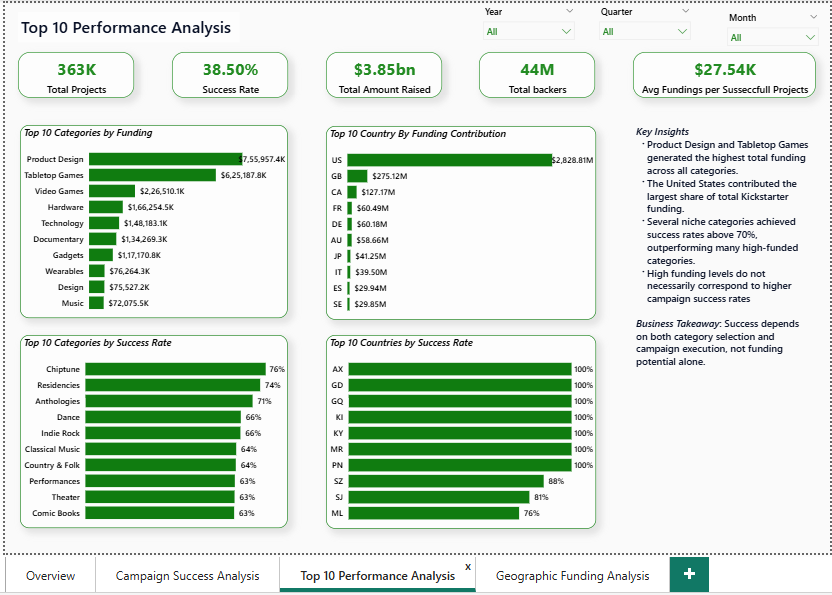

What the dashboard file says about the page in this screenshot:
{"tool":"powerbi","page":{"name":"Top 10 Performance Analysis","canvas":[1350,900],"ordinal":2},"visuals":[{"type":"card","title":"Total Backers ","fields":{"Values":["Measures Table.Total backers"]},"box":[776,79.6,190,75],"z":0},{"type":"card","title":"Total Amount Raised","fields":{"Values":["Measures Table.Total Amount Raised"]},"box":[524.5,80.2,190,75],"z":1000},{"type":"card","title":"Avg Fundings per Susseccfull Projects","fields":{"Values":["Measures Table.Avg Fundings per Susseccfull Projects"]},"box":[1027.6,80.2,299.5,75.3],"z":2000},{"type":"barChart","title":"Top 10 Country By Funding Contribution","fields":{"Category":["Location.country"],"Y":["Measures Table.Total Amount Raised"]},"box":[525,201.7,441.7,316.7],"z":3000},{"type":"slicer","fields":{"Values":["Projects.created_at_new.Variation.Date Hierarchy.Year"]},"box":[777.3,3.3,160,75],"z":4000},{"type":"slicer","fields":{"Values":["Projects.created_at_new.Variation.Date Hierarchy.Quarter"]},"box":[967.1,3.3,160,75],"z":5000},{"type":"card","title":"Total Projects","fields":{"Values":["Measures Table.Total Projects"]},"box":[21.3,80.2,190,75.3],"z":6000},{"type":"card","title":"Success Rate","fields":{"Values":["Measures Table.Success Rate"]},"box":[272.9,80.5,190,75],"z":7000},{"type":"barChart","title":"Top 10 Countries by Success Rate","fields":{"Y":["Measures Table.Success Rate"],"Category":["Location.country"]},"box":[525,543.3,441.7,316.7],"z":8000},{"type":"barChart","title":"Top 10 Categories by Funding","fields":{"Category":["Category.name"],"Y":["Measures Table.Total Amount Raised"]},"box":[25,200,438,316],"z":9000},{"type":"barChart","title":"Top 10 Categories by Success Rate","fields":{"Category":["Category.name"],"Y":["Measures Table.Success Rate"]},"box":[25,543.3,438,316],"z":10000},{"type":"textbox","box":[21.7,15,363.3,50],"z":11000},{"type":"slicer","title":"Month","fields":{"Values":["Projects.created_at_new.Variation.Date Hierarchy.Month"]},"box":[1176.7,13.3,160,75],"z":12000},{"type":"textbox","box":[1027.6,194.7,299.5,672.5],"z":13000}]}

Visuals, with their boxes on the page's 1350x900 design canvas (x1, y1, x2, y2). These are canvas units, not pixel positions in the 832x595 screenshot, which may show the page scaled, cropped or inside an application window:
"Total Backers " card: {"left": 776, "top": 80, "right": 966, "bottom": 155}
"Total Amount Raised" card: {"left": 524, "top": 80, "right": 714, "bottom": 155}
"Avg Fundings per Susseccfull Projects" card: {"left": 1028, "top": 80, "right": 1327, "bottom": 156}
"Top 10 Country By Funding Contribution" barChart: {"left": 525, "top": 202, "right": 967, "bottom": 518}
slicer - Projects.created_at_new.Variation.Date Hierarchy.Year: {"left": 777, "top": 3, "right": 937, "bottom": 78}
slicer - Projects.created_at_new.Variation.Date Hierarchy.Quarter: {"left": 967, "top": 3, "right": 1127, "bottom": 78}
"Total Projects" card: {"left": 21, "top": 80, "right": 211, "bottom": 156}
"Success Rate" card: {"left": 273, "top": 80, "right": 463, "bottom": 156}
"Top 10 Countries by Success Rate" barChart: {"left": 525, "top": 543, "right": 967, "bottom": 860}
"Top 10 Categories by Funding" barChart: {"left": 25, "top": 200, "right": 463, "bottom": 516}
"Top 10 Categories by Success Rate" barChart: {"left": 25, "top": 543, "right": 463, "bottom": 859}
textbox: {"left": 22, "top": 15, "right": 385, "bottom": 65}
"Month" slicer: {"left": 1177, "top": 13, "right": 1337, "bottom": 88}
textbox: {"left": 1028, "top": 195, "right": 1327, "bottom": 867}
